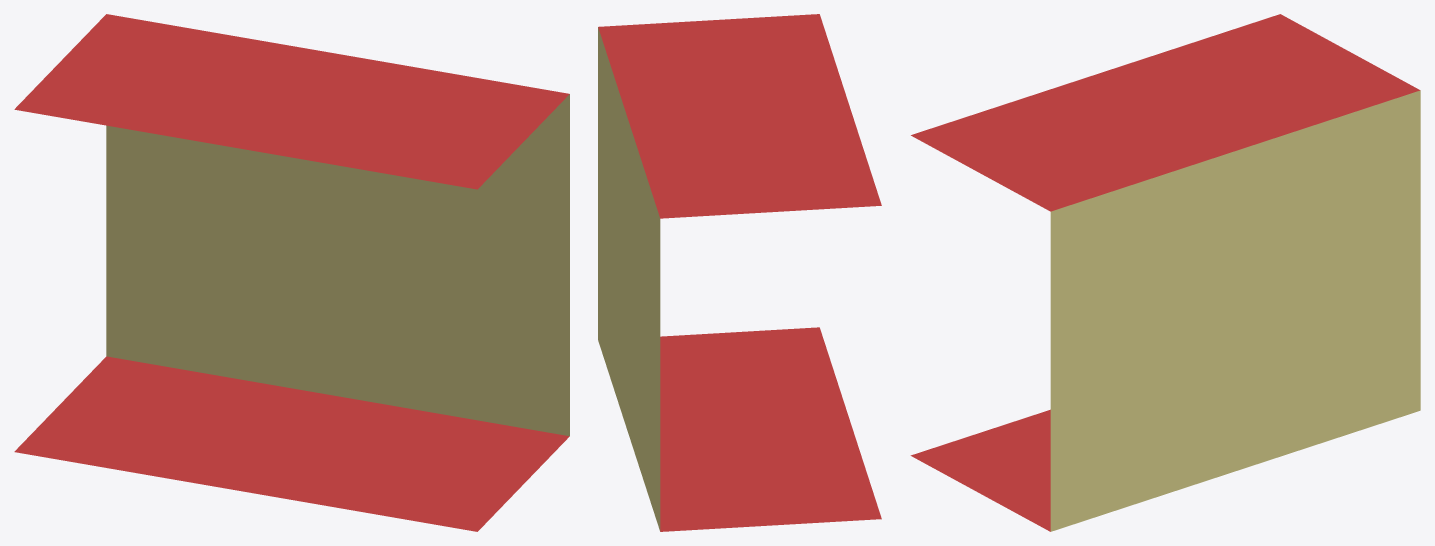
3 views of the same model, side by side, from view 1: azimuth 30°, elevation 25°; view 2: azimuth 150°, elevation 25°; view 3: azimuth 270°, elevation 25° (orthographic). The views are drawn at different scales.
Bounding box in the file's own units: 7.75 × 8.45 × 5.85.
